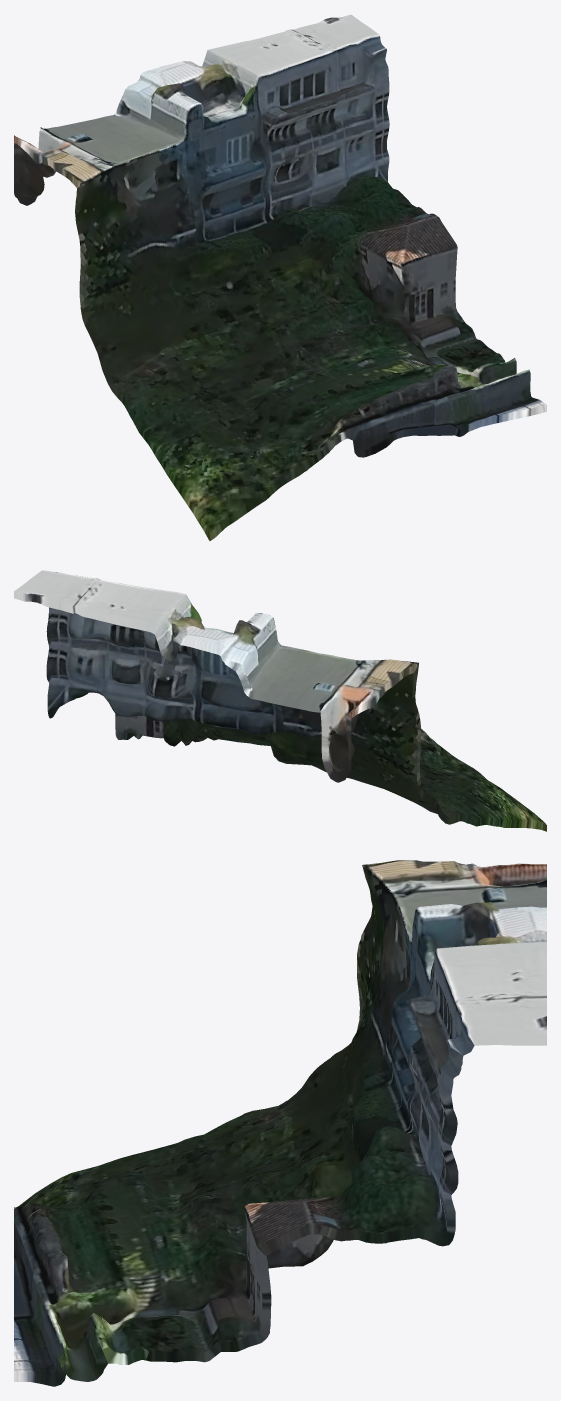
File: z20-167721-405194-h0-yup-uvflip-v3-world.glb
3 renders of one model, top to bottom at view 1: azimuth 30°, elevation 25°; view 2: azimuth 150°, elevation 25°; view 3: azimuth 270°, elevation 25°, orthographic. The views are drawn at different scales.
Bounding box in the file's own units: 30.16 × 25.92 × 30.32.
Materials: 1 (1 with a texture image).
